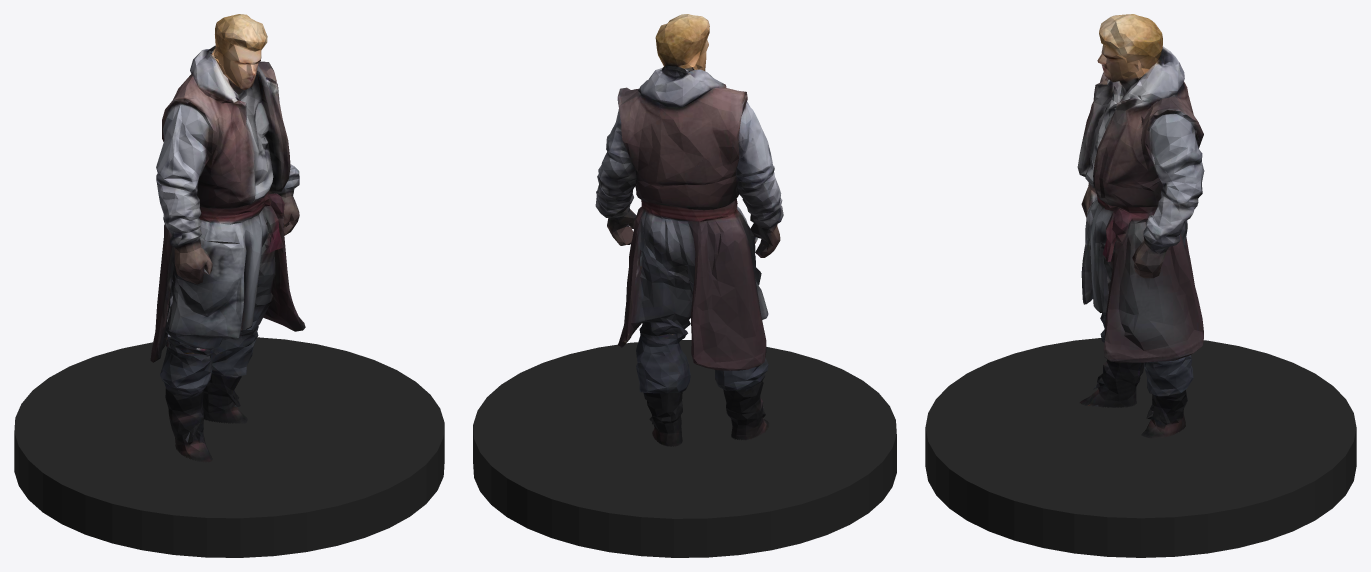
The model's file is buddy-davis.glb.
The picture shows the model from 3 angles, left to right: view 1: azimuth 30°, elevation 25°; view 2: azimuth 150°, elevation 25°; view 3: azimuth 270°, elevation 25°; orthographic projection.
Visible parts, largest first — view 1: base, figure; view 2: base, figure; view 3: base, figure.
Part boxes in pixels (x1=…): base: x1=14, y1=337, x2=444, y2=557; figure: x1=150, y1=14, x2=305, y2=462; base: x1=473, y1=340, x2=896, y2=557; figure: x1=595, y1=14, x2=783, y2=446; base: x1=925, y1=338, x2=1356, y2=557; figure: x1=1077, y1=14, x2=1204, y2=438.
Bounding box in the file's own units: 1.18 × 1.37 × 1.18.
Materials: 2 (1 with a texture image).
